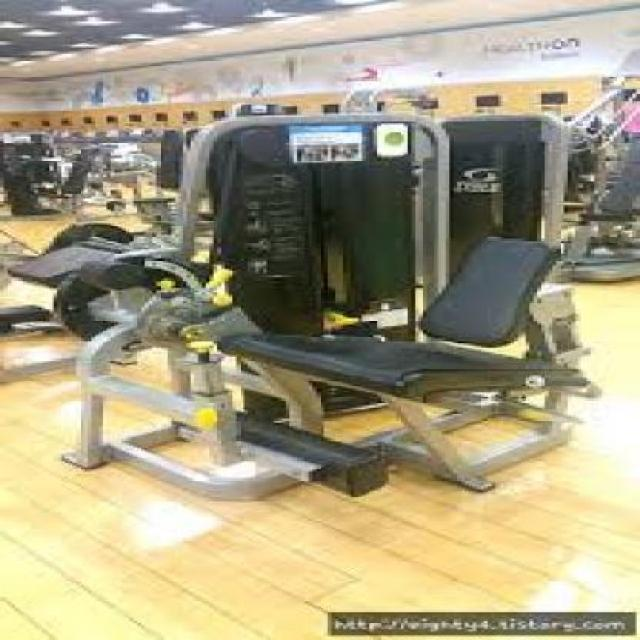leg extension: (4, 107, 640, 504)
